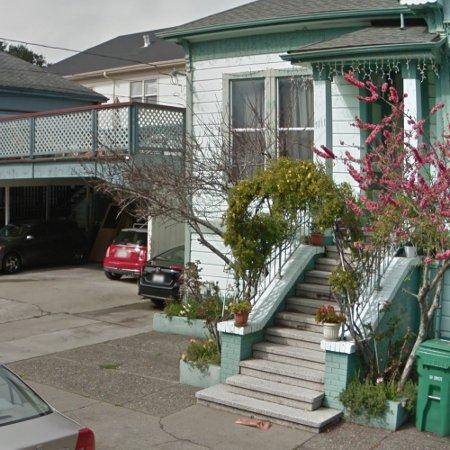stairs: (197, 247, 341, 431)
